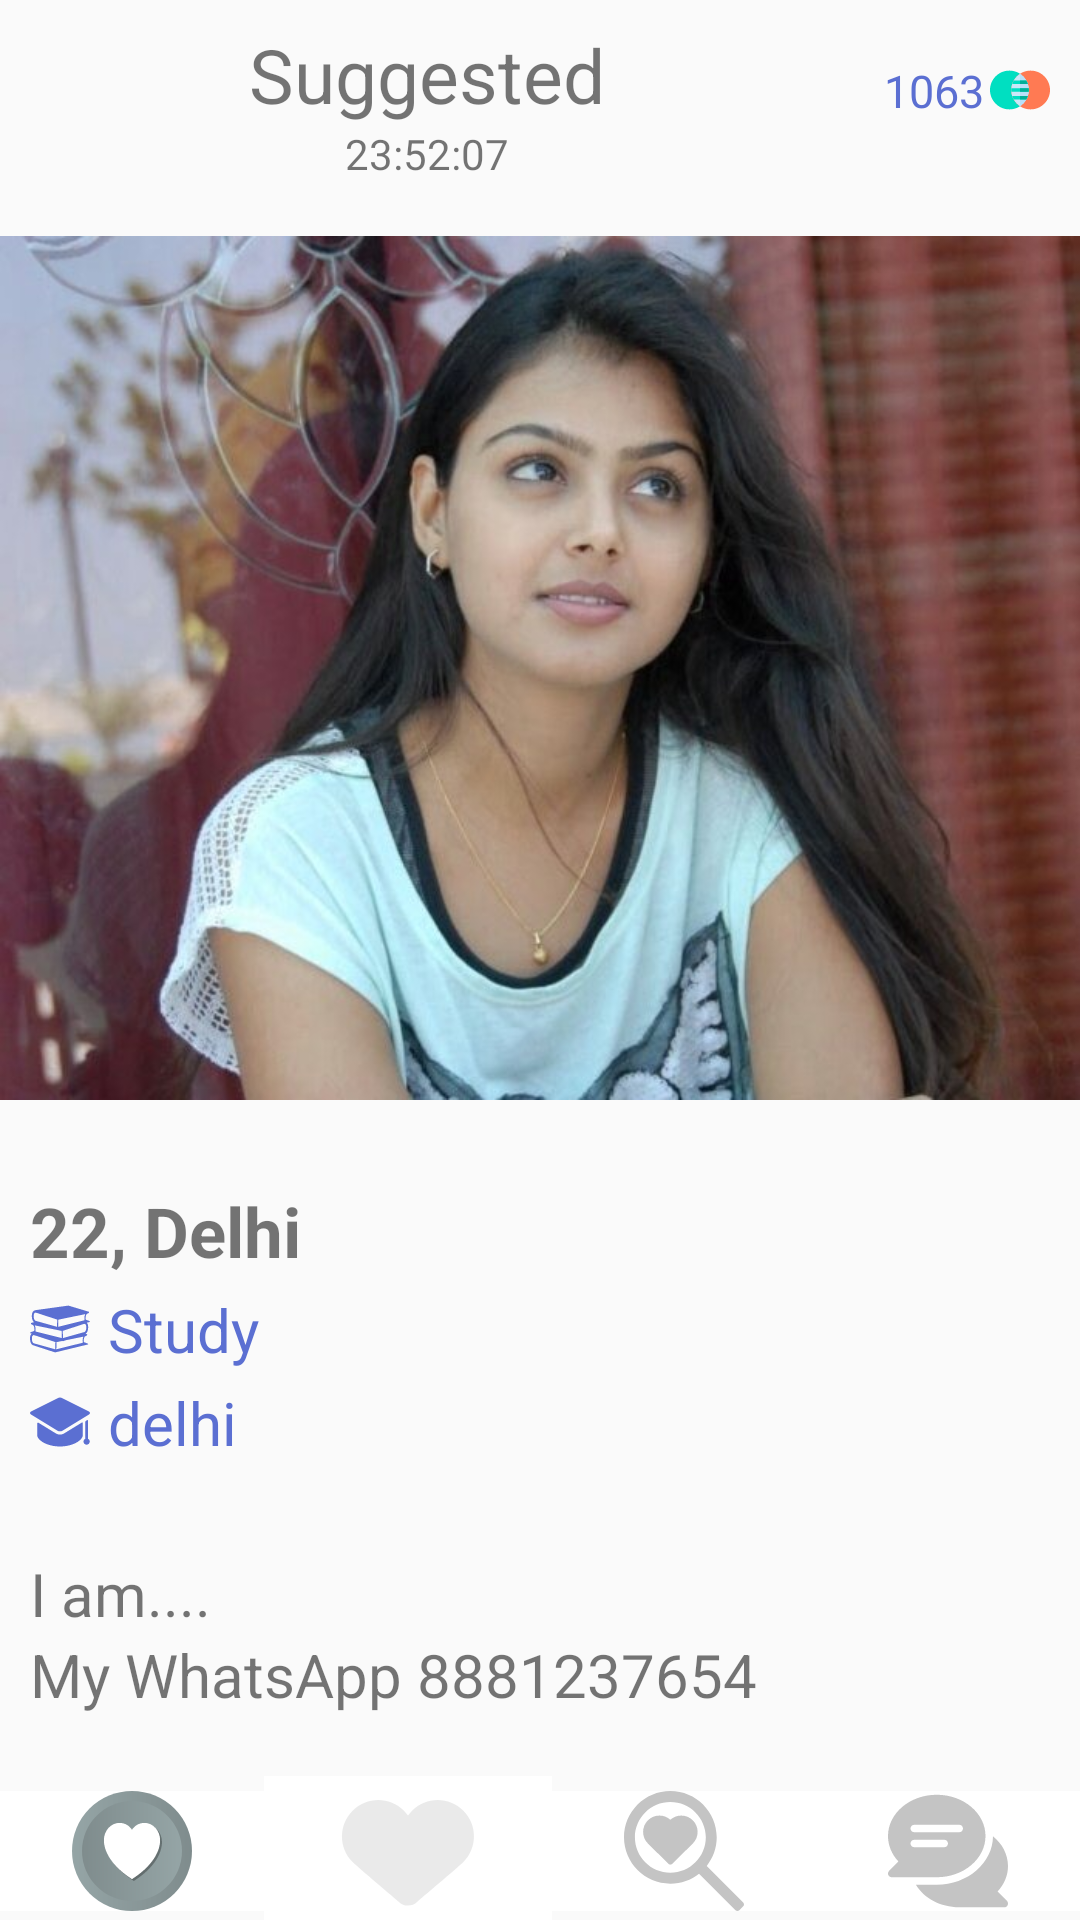

Screen size 1080 × 1920. Icon name, then its box in pixels as (x1, y1, x2, y2):
chat: (888, 1795, 1008, 1907)
discover: (624, 1791, 744, 1911)
suggested: (72, 1791, 192, 1911)
